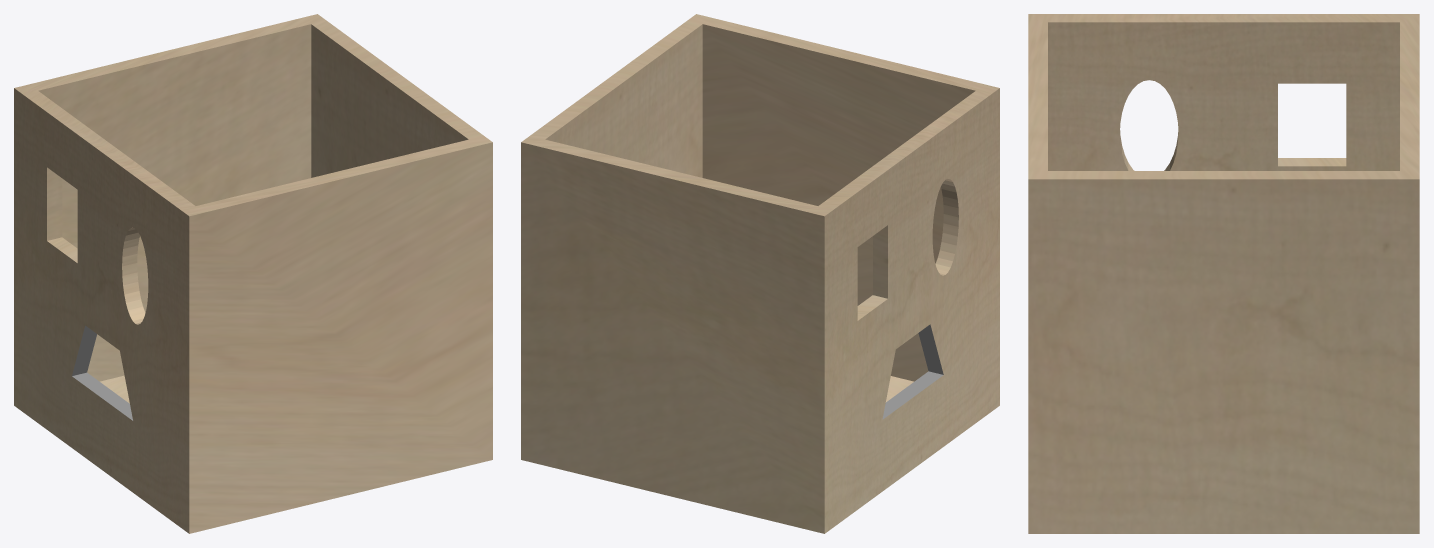
Rendered from shape_sorter.obj.
The picture shows the model from 3 angles, left to right: view 1: azimuth 30°, elevation 25°; view 2: azimuth 150°, elevation 25°; view 3: azimuth 270°, elevation 25°; orthographic projection. The views are drawn at different scales.
Visible parts, largest first — view 1: Cube; view 2: Cube; view 3: Cube.
Boxes of the visible parts, left/top/right/bottom form: Cube: left=14, top=14, right=492, bottom=533; Cube: left=521, top=14, right=999, bottom=533; Cube: left=1028, top=14, right=1419, bottom=533.
Bounding box in the file's own units: 0.4 × 0.4 × 0.4.
